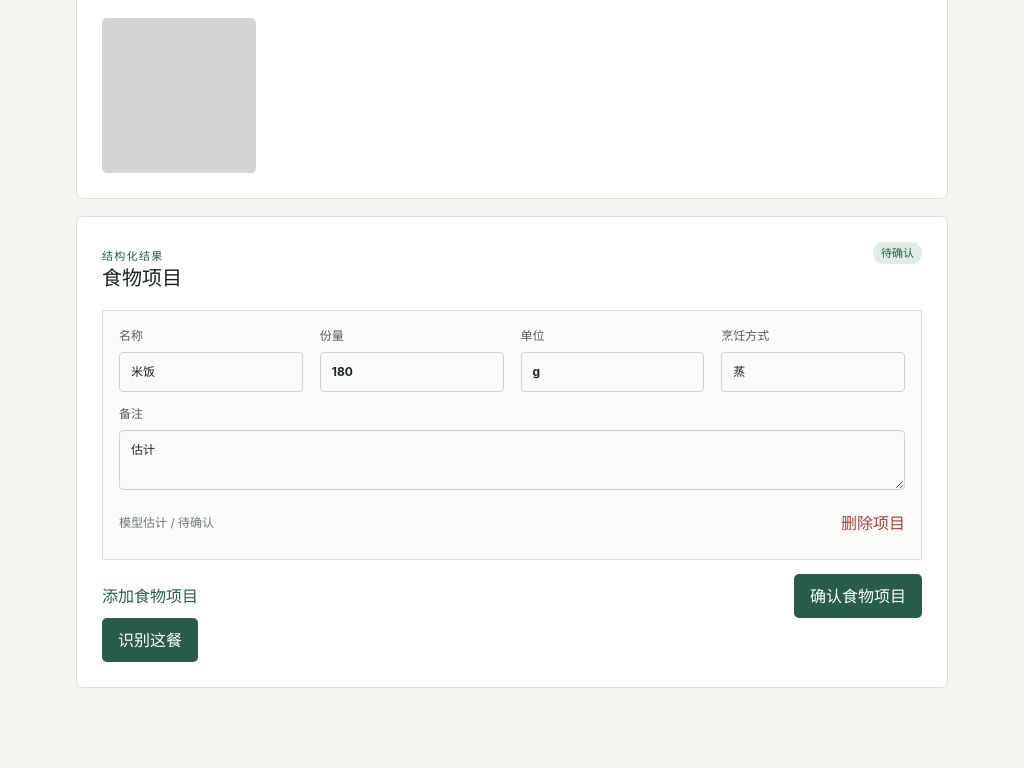
Test: MealDetailPage › disables recognition and editing while a confirmation request is saving
(page scrolled)
Expected: the field showing "米饭" is shown, [119,352,303,392]
Click the button "确认食物项目" at [858, 596], box [794,574,922,618]
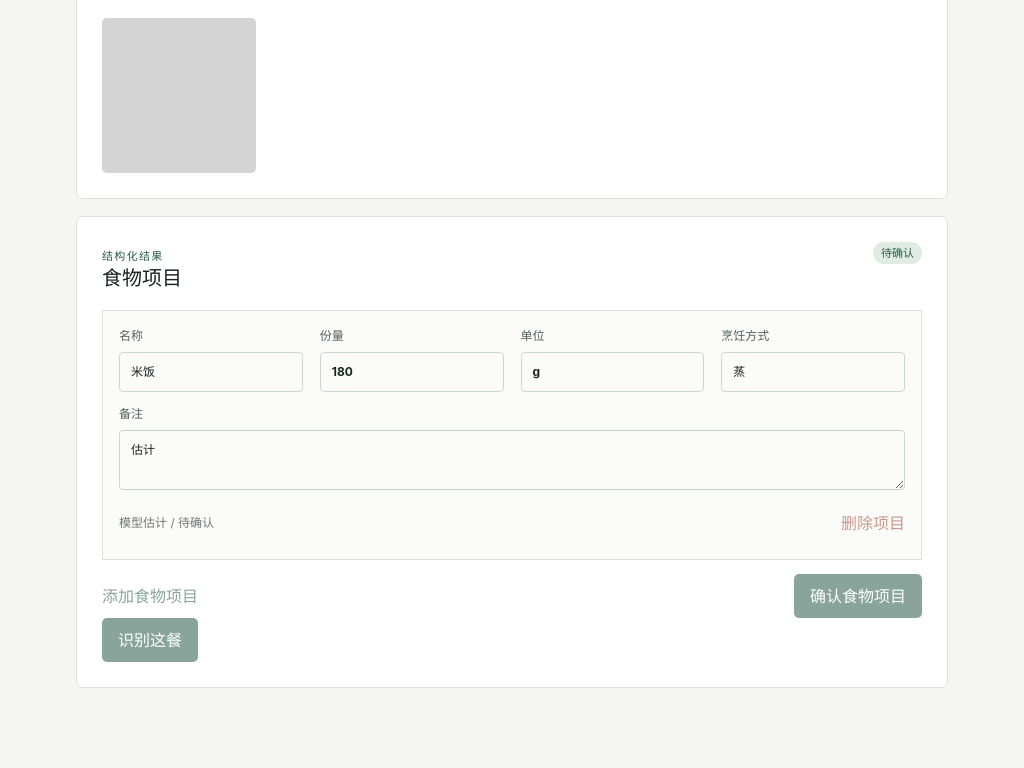
Expected: the field named "食物名称 1" is disabled, [119,352,303,392]
Result: the button "识别这餐" is disabled
Click the button "识别这餐" at [150, 640], box [102,618,198,662]
(page scrolled)
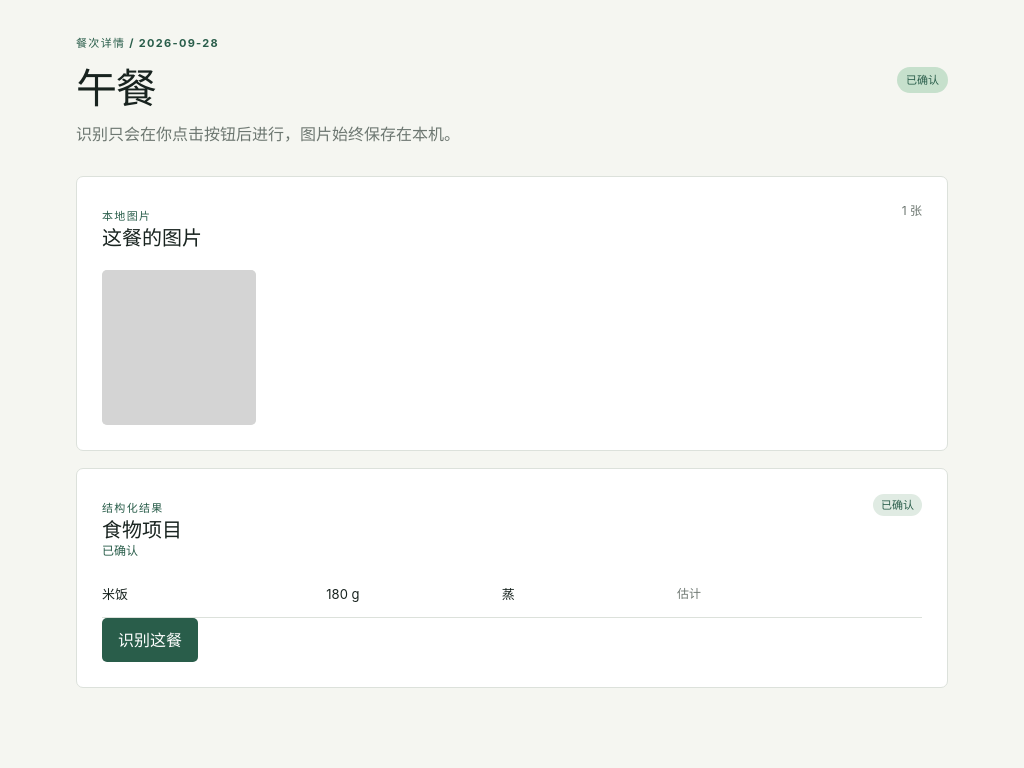
Result: the text "已确认" in the row of "午餐" is shown at [906,72,939,86]
